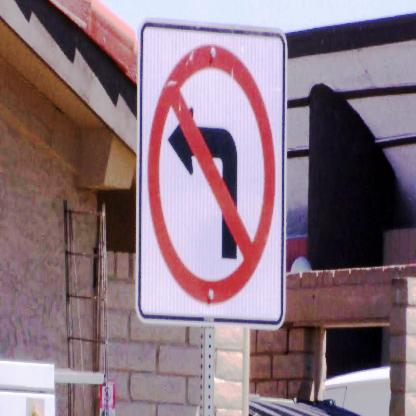No left turn: (148, 39, 276, 316)
